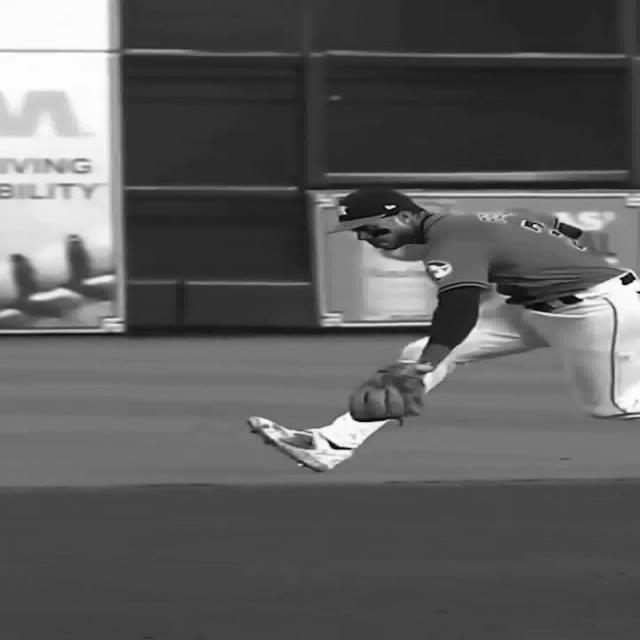baseball_glove: (348, 361, 430, 423)
shoe: (246, 416, 354, 472)
